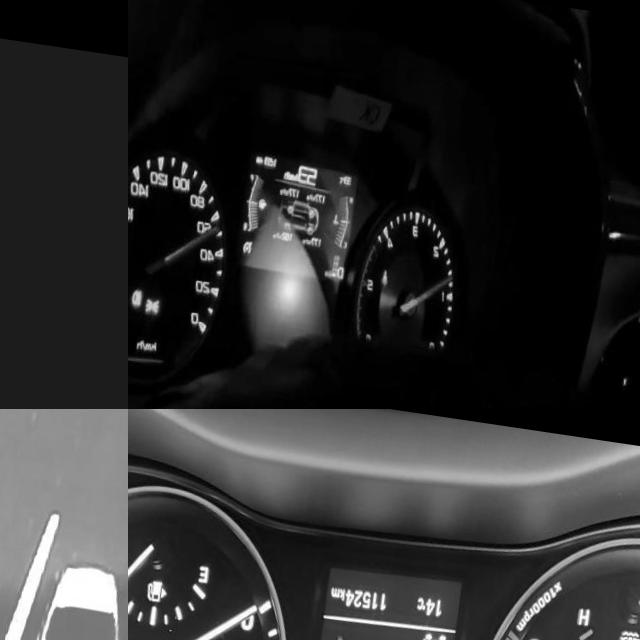Seat Belt: (390, 257, 399, 275)
